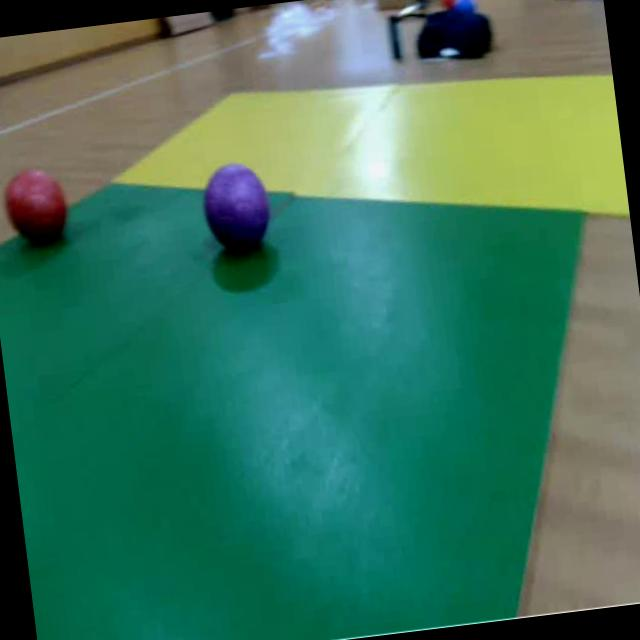purple_ball: (201, 158, 273, 265)
red_ball: (1, 166, 69, 254)
